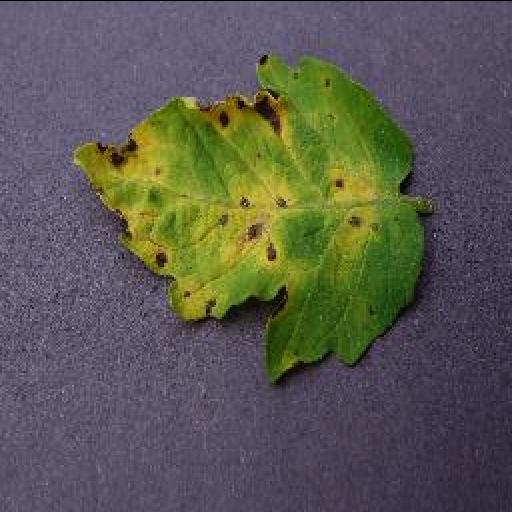disease_tomato: (67, 50, 425, 390)
